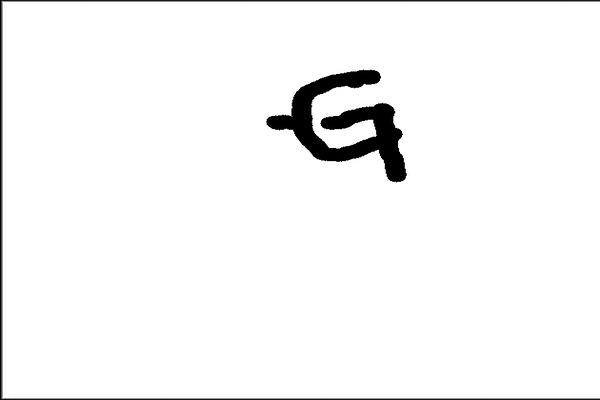G: (262, 65, 412, 189)
